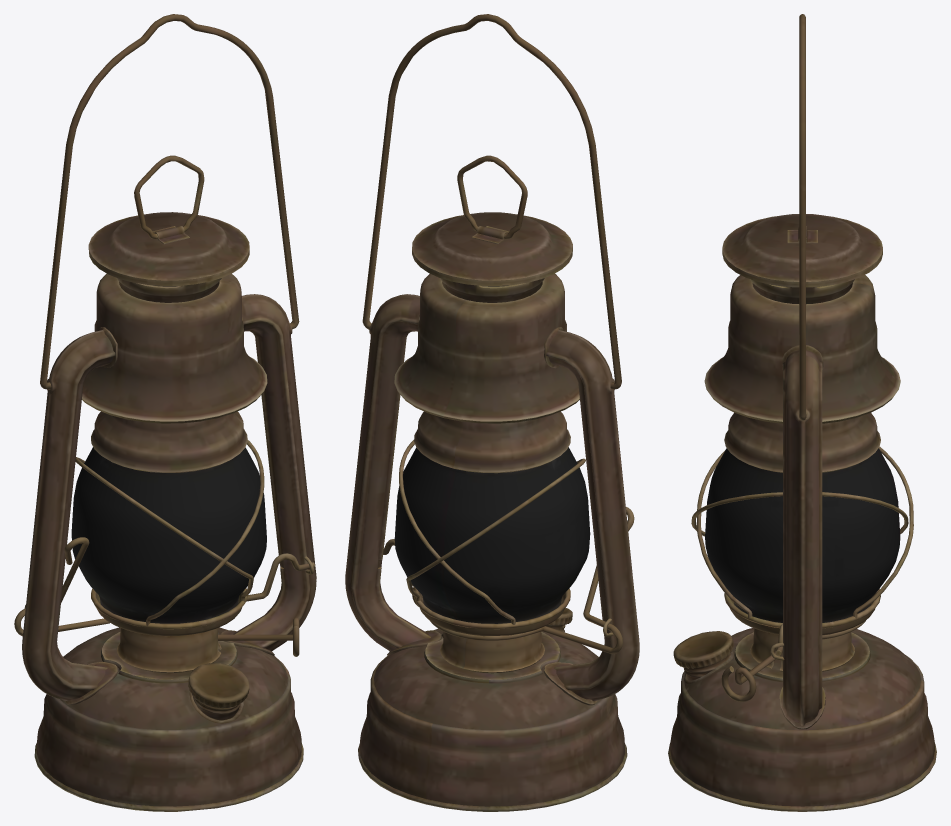
The model's file is Lantern_01.glb.
3 renders of one model, left to right at view 1: azimuth 30°, elevation 25°; view 2: azimuth 150°, elevation 25°; view 3: azimuth 270°, elevation 25°, orthographic.
Parts seen in each view (by area): view 1: Lantern_01, Lantern_01_glass; view 2: Lantern_01, Lantern_01_glass; view 3: Lantern_01, Lantern_01_glass.
Boxes of the visible parts, bbox=[...] form: Lantern_01: bbox=[14, 14, 316, 811]; Lantern_01_glass: bbox=[71, 447, 266, 623]; Lantern_01: bbox=[345, 14, 639, 811]; Lantern_01_glass: bbox=[394, 447, 590, 623]; Lantern_01: bbox=[668, 14, 936, 811]; Lantern_01_glass: bbox=[705, 448, 900, 622].
Size of the model in its own units: 0.1221 by 0.2942 by 0.0971.
Materials: 2 (2 with a texture image).
